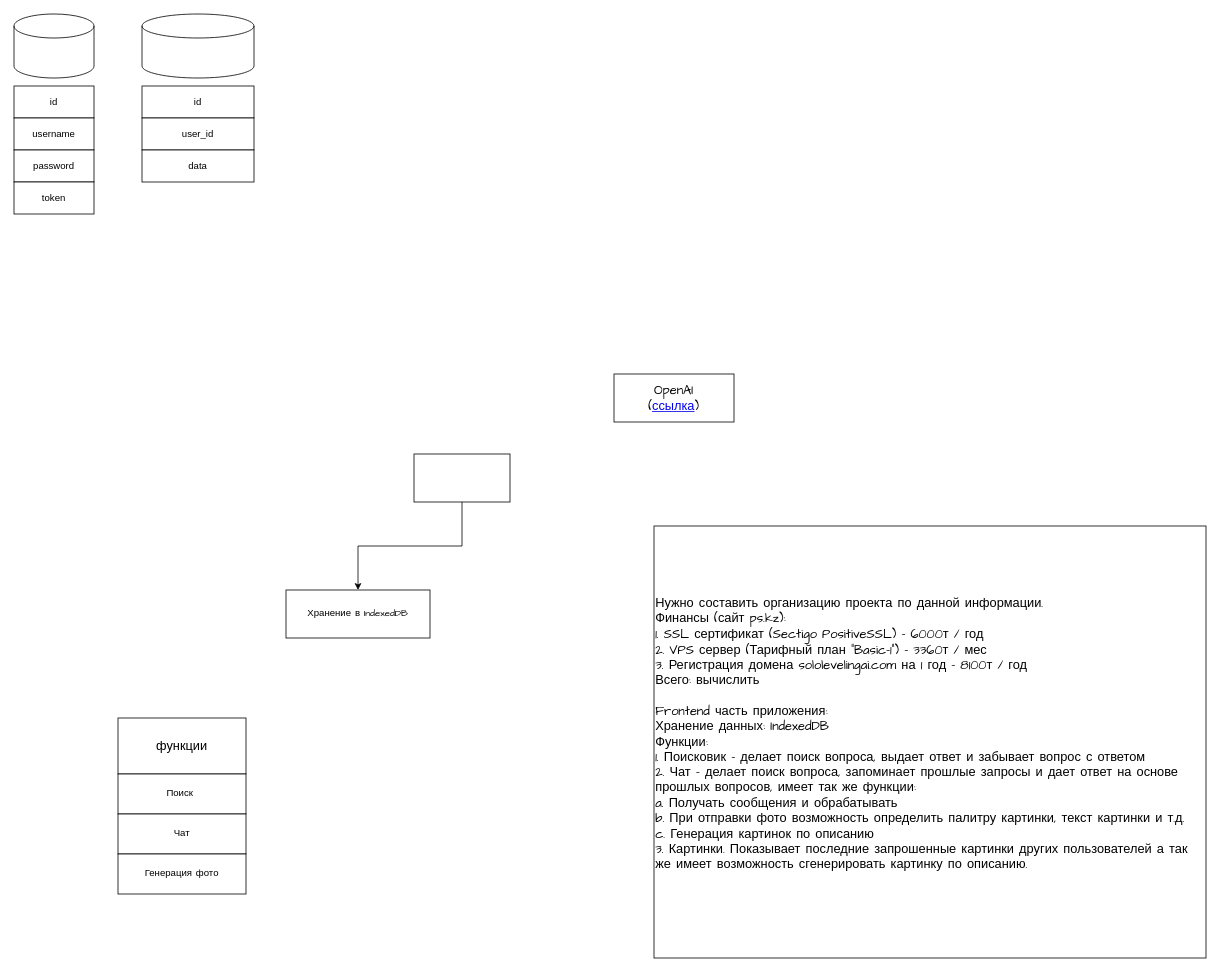
Image size: 1220x972. Some labels were removed from this diagram. Each missing label, with the box of its shape:
Frontend: (413, 453, 510, 502)
rooms: (141, 13, 254, 78)
users: (13, 13, 94, 78)
